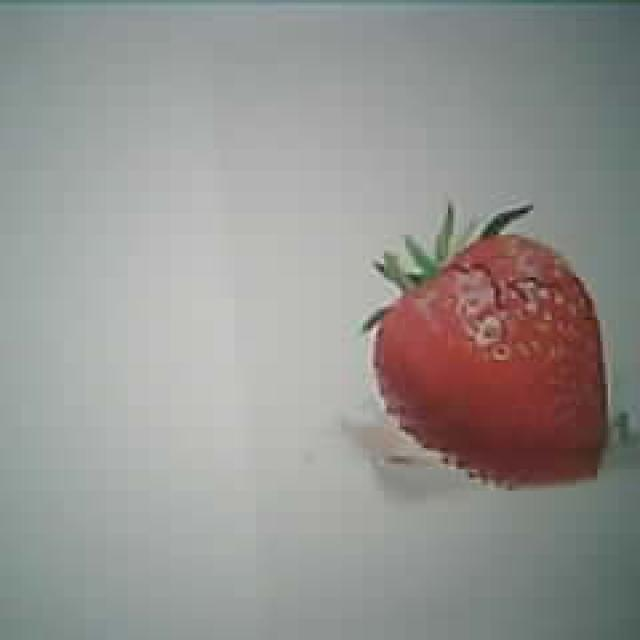strawberry: (374, 238, 613, 488)
